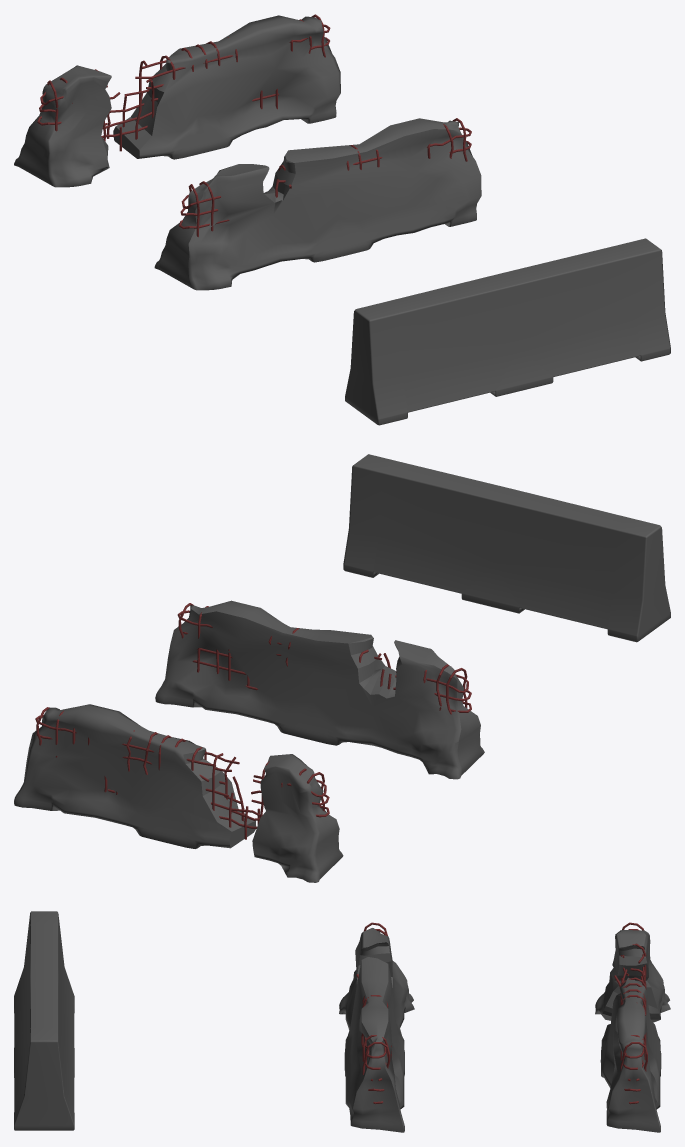
File: CementBarracades.fbx
The picture shows the model from 3 angles, top to bottom: view 1: azimuth 30°, elevation 25°; view 2: azimuth 150°, elevation 25°; view 3: azimuth 270°, elevation 25°; orthographic projection. The views are drawn at different scales.
Visible parts, largest first — view 1: pCube1, pCube2, pCube3; view 2: pCube1, pCube2, pCube3; view 3: pCube1, pCube2, pCube3.
Boxes of the visible parts, x1,y1,x2,y2 form: pCube1: [345, 238, 670, 425]; pCube2: [154, 118, 481, 290]; pCube3: [14, 15, 340, 187]; pCube1: [343, 454, 670, 642]; pCube2: [155, 600, 484, 779]; pCube3: [14, 704, 343, 882]; pCube1: [14, 911, 74, 1130]; pCube2: [339, 928, 414, 1132]; pCube3: [595, 930, 670, 1132].
Bounding box in the file's own units: 8.42 × 2.61 × 17.2.
